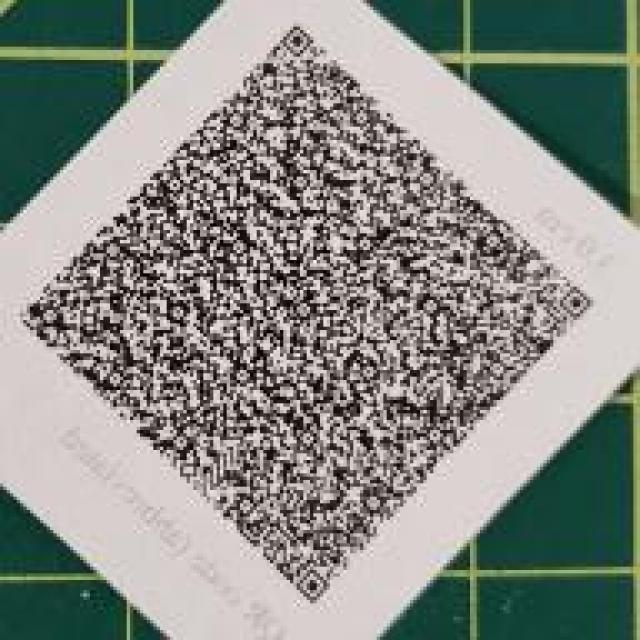QR_CODE: (10, 13, 603, 612)
